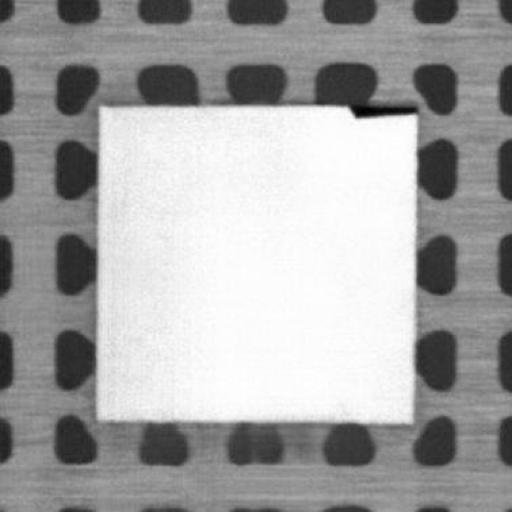DIE_BROKEN: (347, 100, 417, 120)
